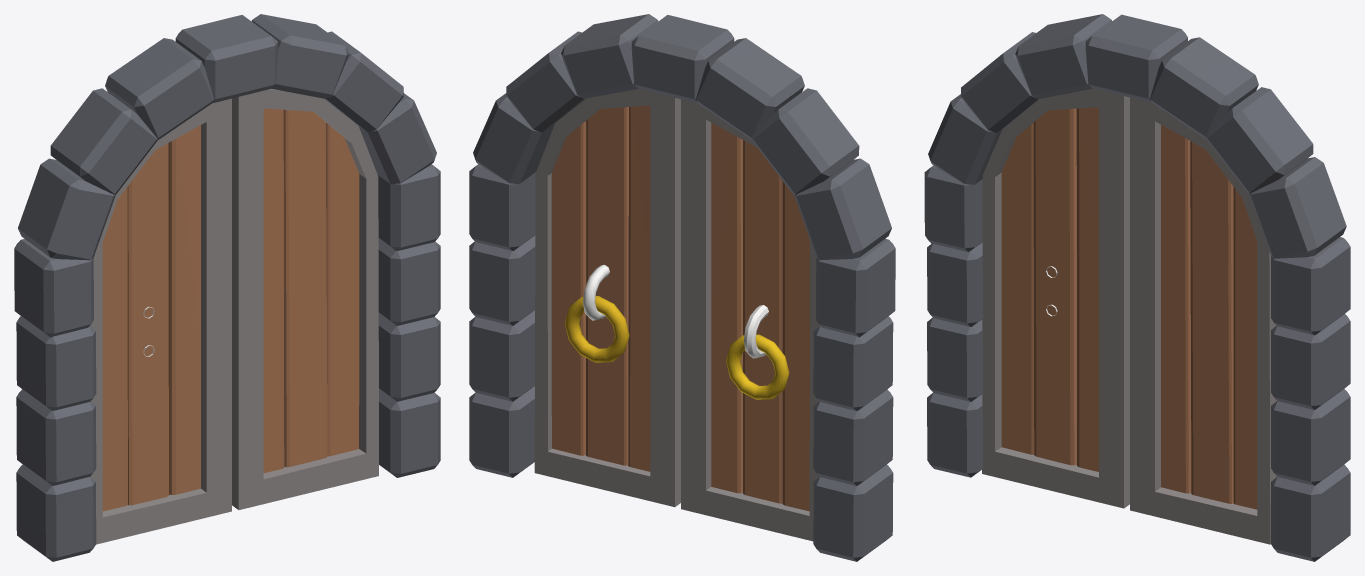
Rendered from porte.fbx.
3 views of the same model, side by side, from view 1: azimuth 30°, elevation 25°; view 2: azimuth 150°, elevation 25°; view 3: azimuth 330°, elevation 25° (orthographic).
Visible parts, largest first — view 1: encaderment, porte.001, porte; view 2: encaderment, porte.001, porte; view 3: encaderment, porte, porte.001.
Part boxes in pixels (box(x1,y1,x2,y2)): encaderment: box(14, 14, 440, 561); porte.001: box(232, 89, 378, 509); porte: box(90, 98, 231, 544); encaderment: box(469, 14, 895, 561); porte.001: box(534, 88, 680, 507); porte: box(681, 99, 819, 541); encaderment: box(924, 14, 1350, 561); porte: box(982, 88, 1129, 508); porte.001: box(1130, 97, 1276, 544).
Bounding box in the file's own units: 512 × 582 × 85.04.
